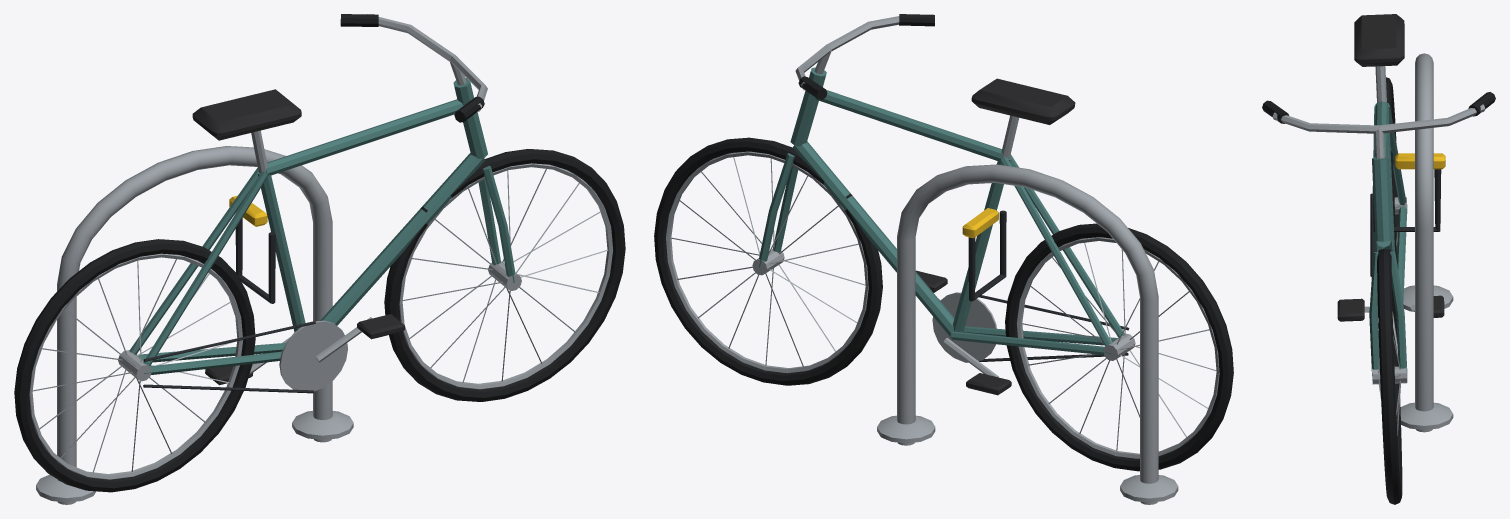
File: BikeRack.fbx
3 renders of one model, left to right at view 1: azimuth 30°, elevation 25°; view 2: azimuth 150°, elevation 25°; view 3: azimuth 270°, elevation 25°, orthographic. The views are drawn at different scales.
Visible parts, largest first — view 1: Bicycle, Rack, Lock; view 2: Bicycle, Rack, Lock; view 3: Bicycle, Rack, Lock.
Part boxes in pixels (x1,y1,x2,y2): Bicycle: [14, 14, 625, 492]; Rack: [36, 146, 353, 504]; Lock: [229, 195, 275, 303]; Bicycle: [654, 14, 1233, 471]; Rack: [877, 164, 1178, 504]; Lock: [962, 208, 1006, 301]; Bicycle: [1262, 14, 1495, 504]; Rack: [1400, 53, 1453, 432]; Lock: [1373, 153, 1445, 231].
Bounding box in the file's own units: 1.71 × 1.03 × 0.6073.
